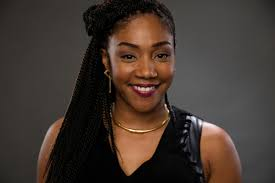black_female: (84, 1, 199, 119)
